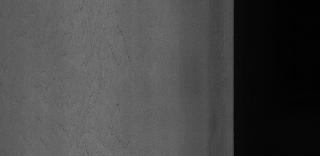silk spot: (49, 13, 139, 141)
